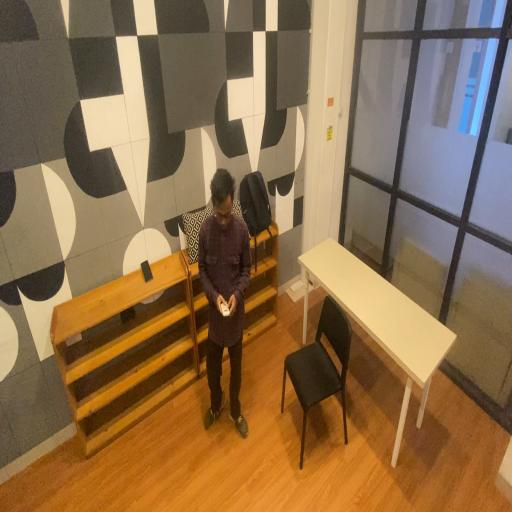bantal: (181, 205, 213, 266)
hp: (138, 255, 154, 285)
kursi: (280, 291, 356, 465)
lemari: (50, 277, 200, 462)
remote AC: (217, 299, 231, 318)
tas ransel: (239, 169, 277, 237)
